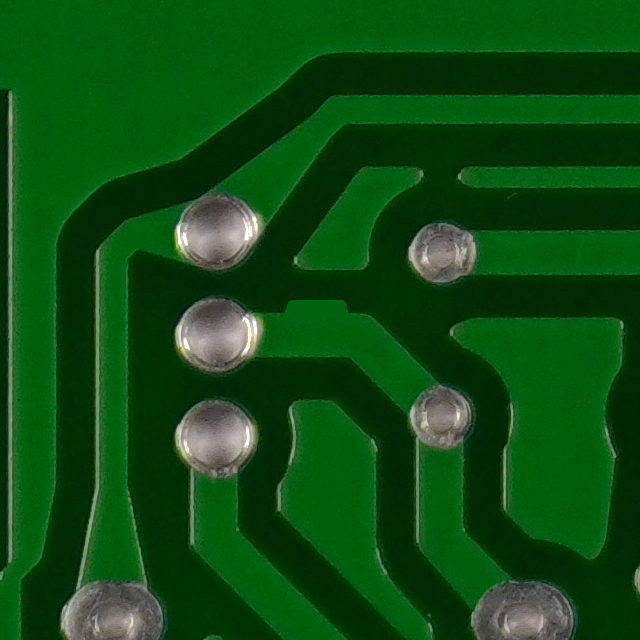spur: (270, 291, 370, 350)
